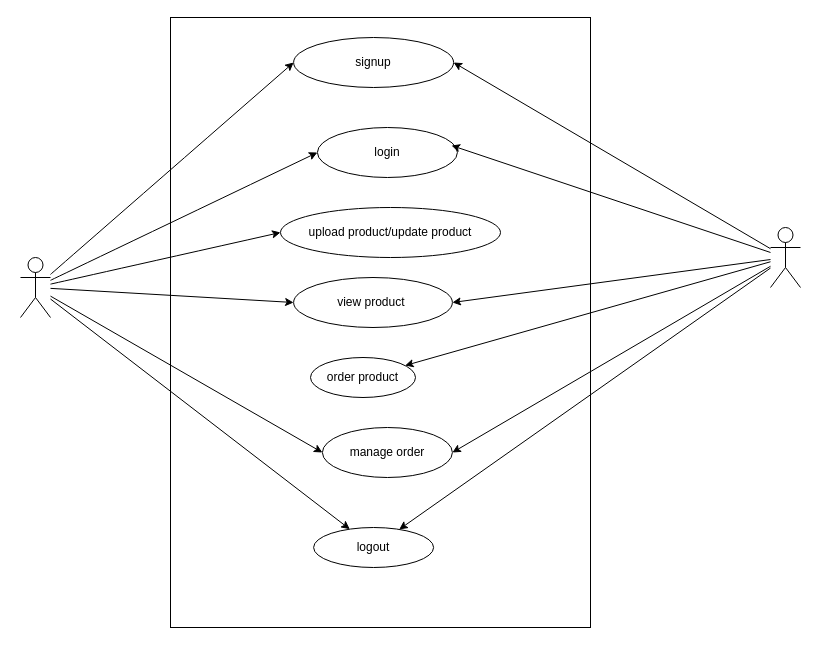
The diagram is 827 pixels wide and 645 high, and some of its shapes have lost their labels. Each missing label, with the centre of its shape:
"customer" belongs at pixel 785 257.
"vendor" belongs at pixel 35 287.
